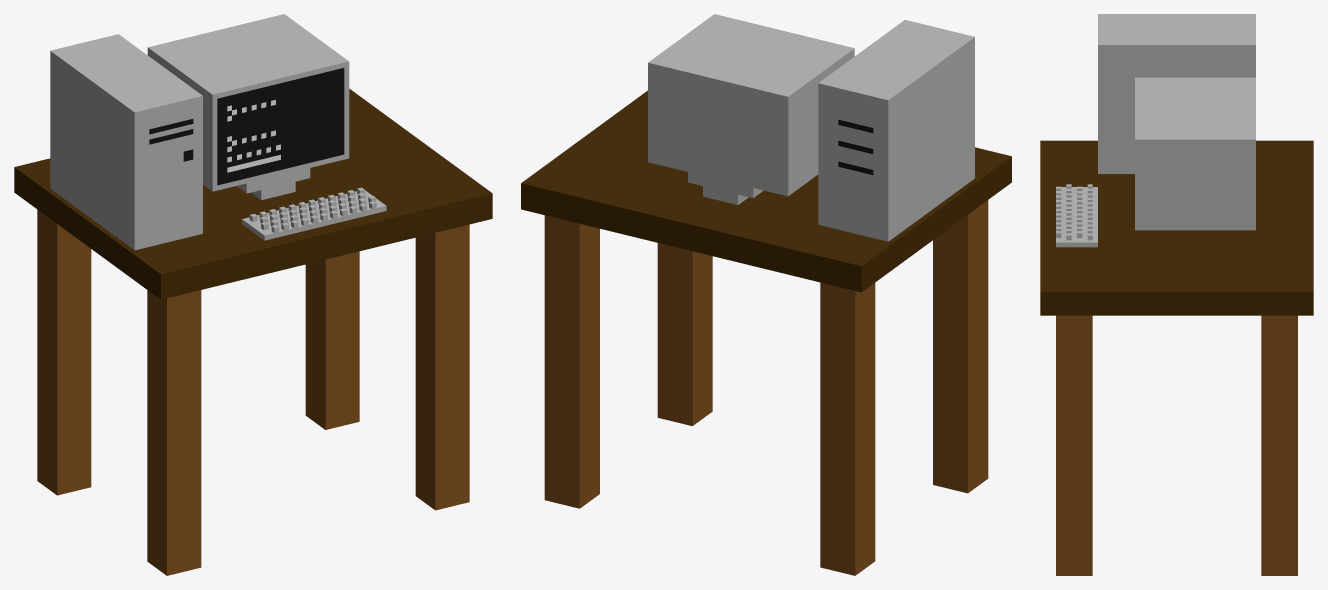
3 renders of one model, left to right at view 1: azimuth 30°, elevation 25°; view 2: azimuth 150°, elevation 25°; view 3: azimuth 270°, elevation 25°, orthographic. The views are drawn at different scales.
Visible parts, largest first — view 1: pc; view 2: pc; view 3: pc.
Part boxes in pixels (left/top/right/bottom): pc: left=14, top=14, right=492, bottom=575; pc: left=521, top=14, right=1011, bottom=575; pc: left=1040, top=14, right=1313, bottom=575.
Size of the model in its own units: 6.8 by 8.8 by 5.2.
1 material, 1 textured.
